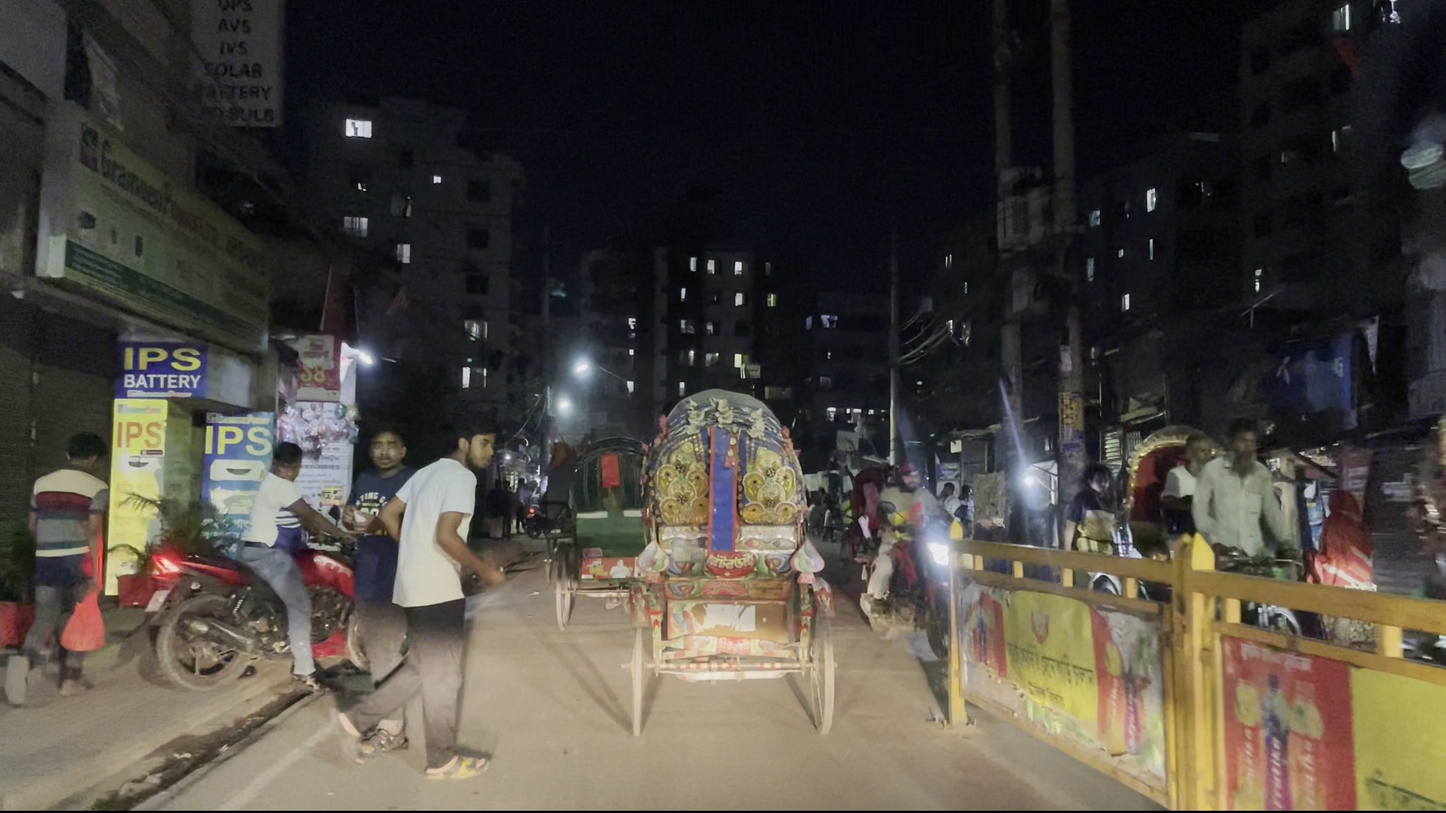motorcycle: (149, 538, 372, 677)
person: (337, 418, 489, 776), (819, 461, 966, 738), (9, 425, 140, 715), (374, 432, 477, 653), (1317, 482, 1416, 681), (250, 428, 325, 682), (1202, 414, 1275, 574), (1153, 430, 1230, 551), (1054, 462, 1130, 568)
